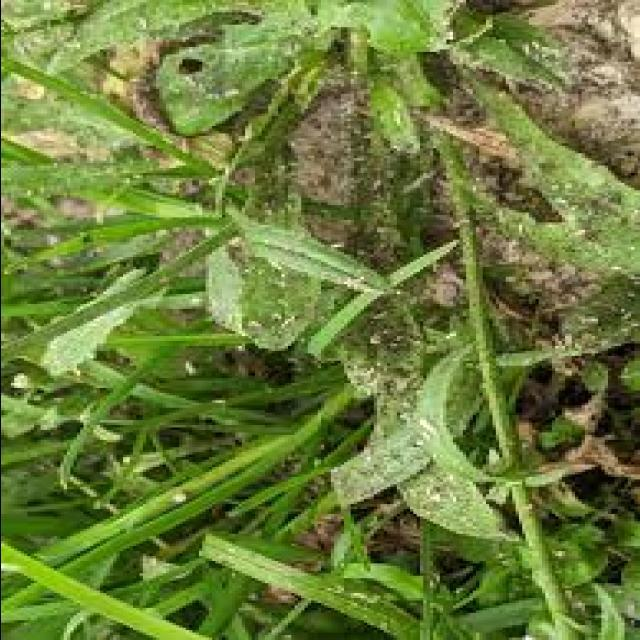aphid: (172, 354, 204, 381), (158, 482, 194, 506), (211, 79, 244, 101), (360, 302, 392, 322), (554, 195, 584, 215), (544, 539, 570, 561), (485, 79, 511, 101), (109, 168, 135, 190), (350, 123, 380, 141), (316, 234, 349, 250), (10, 182, 36, 202), (482, 544, 508, 564), (541, 173, 564, 195), (27, 178, 52, 198), (340, 148, 366, 166), (264, 291, 290, 309), (515, 494, 541, 512), (564, 222, 590, 240), (426, 561, 446, 583), (436, 148, 458, 168), (215, 538, 238, 556), (458, 180, 482, 196), (122, 165, 148, 178), (148, 272, 172, 286), (419, 570, 435, 588)
